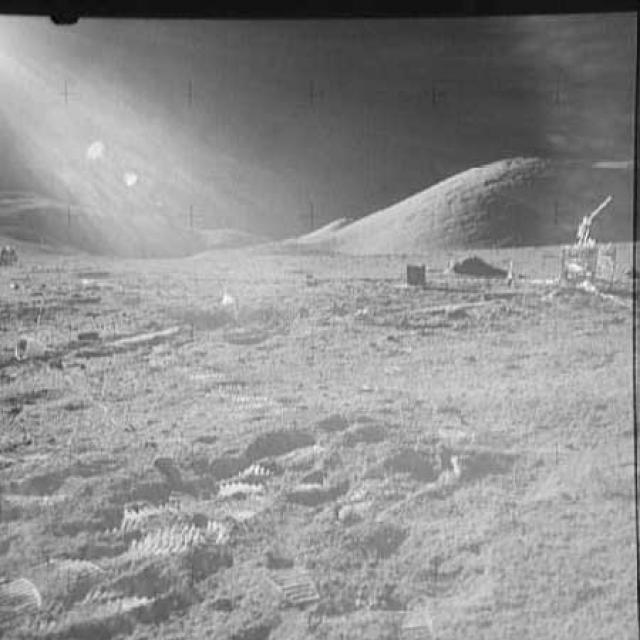artifact: (507, 194, 639, 310), (12, 292, 53, 364), (400, 256, 430, 291)
crater: (178, 304, 280, 335)
rock: (444, 237, 501, 279)
